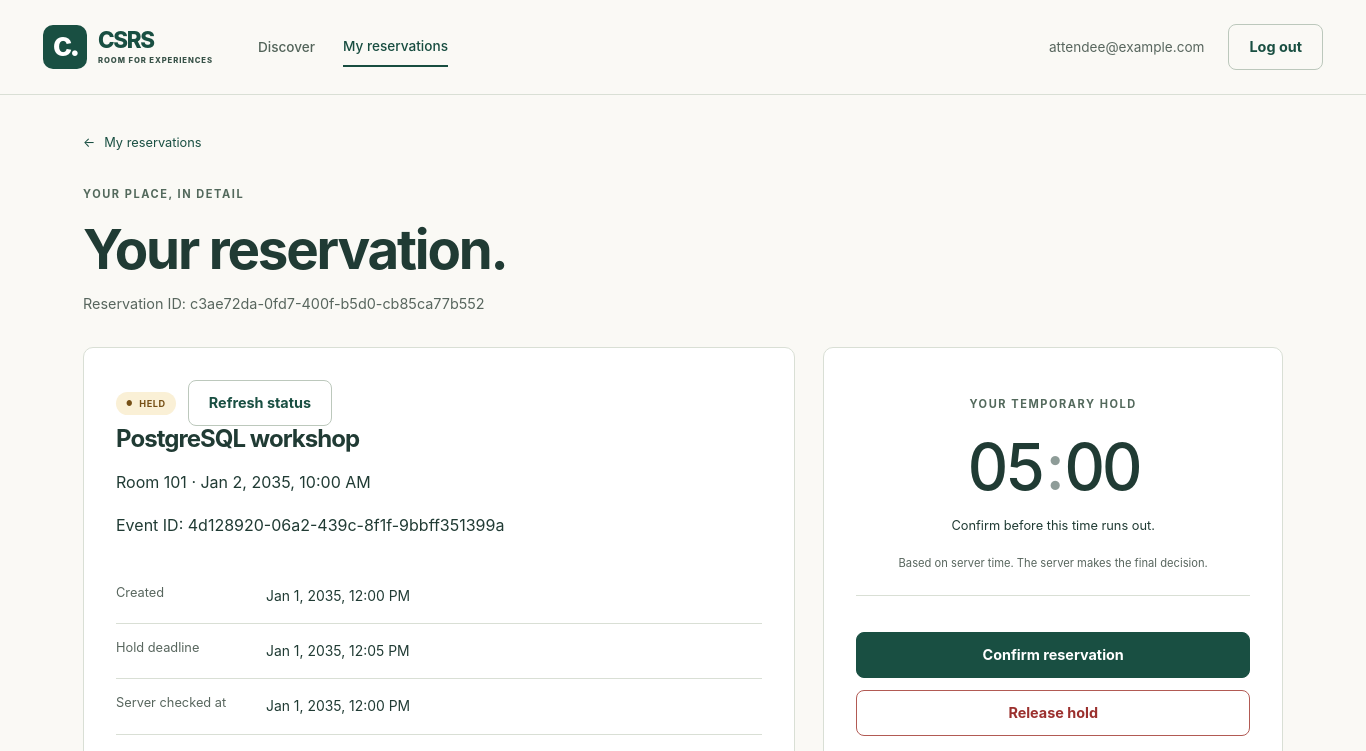
events and reservation workflows › reconciles confirmation against current state
Click the button "Confirm reservation" at (1053, 655), box x1=856 y1=632 x2=1250 y2=678
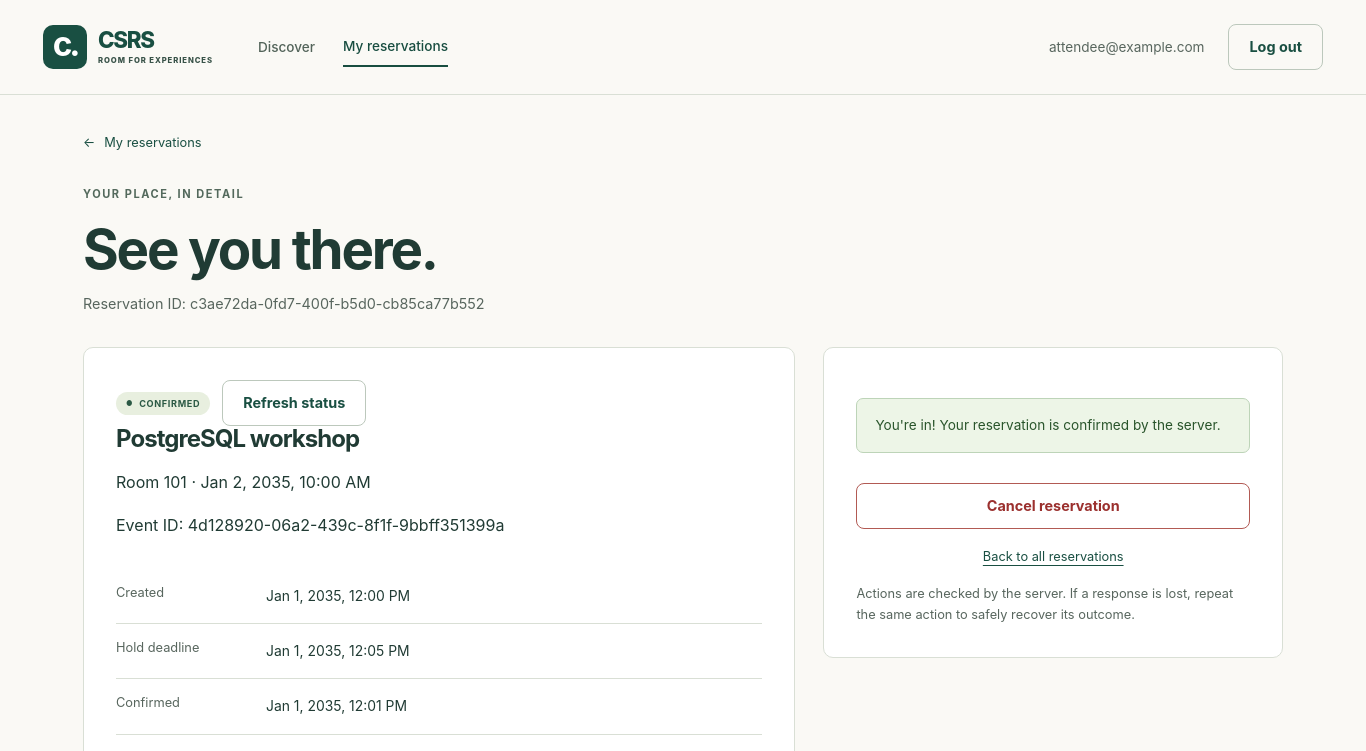
Check: the heading "See you there." is shown, box x1=83 y1=219 x2=485 y2=280
